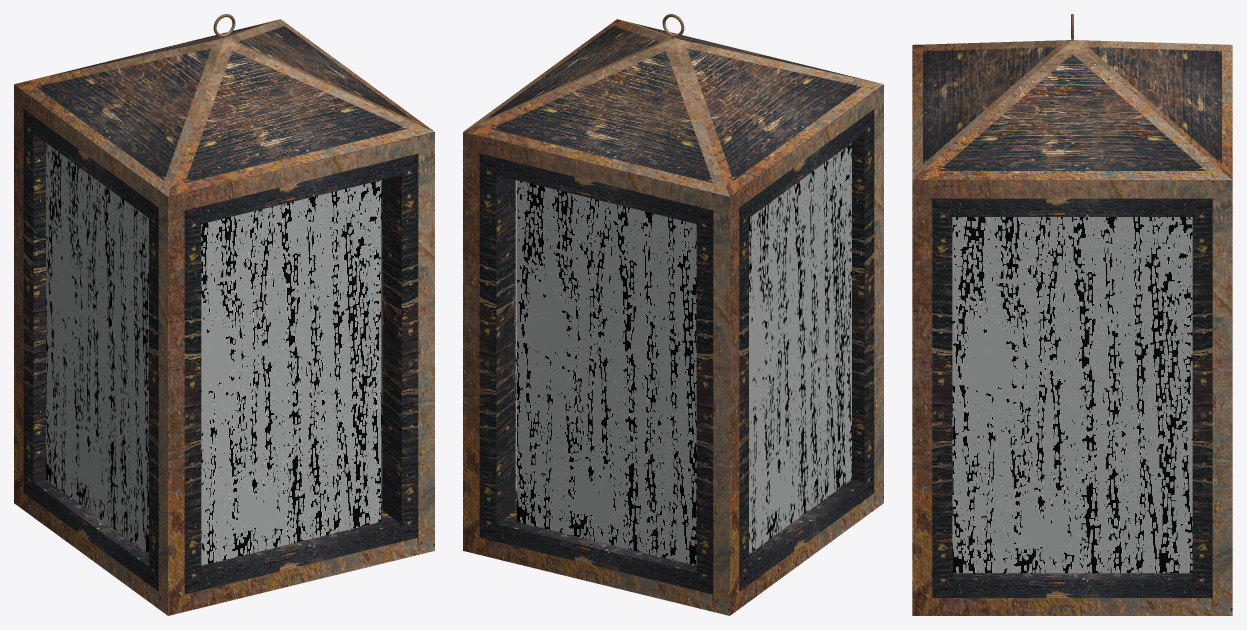
Rendered from lamp model.fbx.
3 renders of one model, left to right at view 1: azimuth 30°, elevation 25°; view 2: azimuth 150°, elevation 25°; view 3: azimuth 270°, elevation 25°, orthographic. The views are drawn at different scales.
Visible parts, largest first — view 1: Plane_1; view 2: Plane_1; view 3: Plane_1.
Part boxes in pixels (x1,y1,x2,y2): Plane_1: (14,14,434,615); Plane_1: (463,14,883,615); Plane_1: (912,14,1232,615).
Bounding box in the file's own units: 200 × 368 × 200.
Materials: 3 (3 with a texture image).
